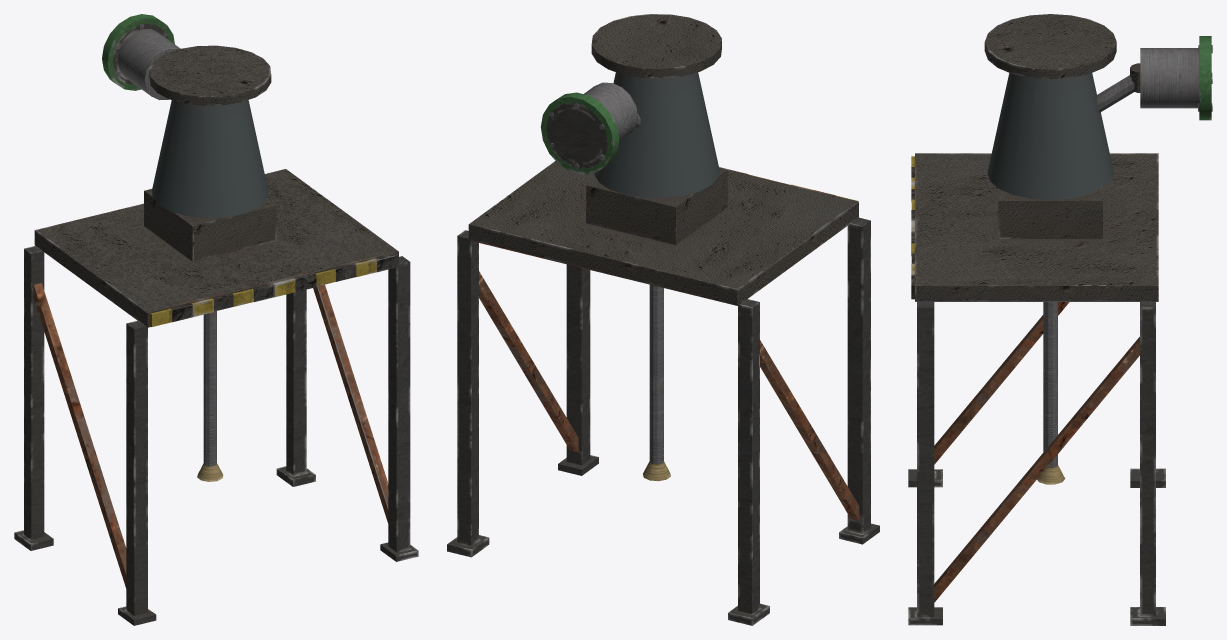
The model's file is feDoser_HD.fbx.
The picture shows the model from 3 angles, left to right: view 1: azimuth 30°, elevation 25°; view 2: azimuth 150°, elevation 25°; view 3: azimuth 270°, elevation 25°; orthographic projection. The views are drawn at different scales.
Visible parts, largest first — view 1: feDoser_Base, FeReach_Legs, FeReach_Nozzle; view 2: feDoser_Base, FeReach_Legs, FeReach_Nozzle; view 3: feDoser_Base, FeReach_Legs, FeReach_Nozzle.
Boxes of the visible parts, x1,y1,x2,y2 form: feDoser_Base: (34, 14, 398, 327); FeReach_Legs: (14, 245, 418, 625); FeReach_Nozzle: (197, 311, 223, 481); feDoser_Base: (468, 14, 858, 305); FeReach_Legs: (447, 217, 879, 625); FeReach_Nozzle: (643, 284, 670, 481); feDoser_Base: (911, 14, 1212, 301); FeReach_Legs: (908, 301, 1165, 625); FeReach_Nozzle: (1037, 302, 1065, 484).
Size of the model in its own units: 1.02 by 1.62 by 0.876.
1 material, 1 textured.
